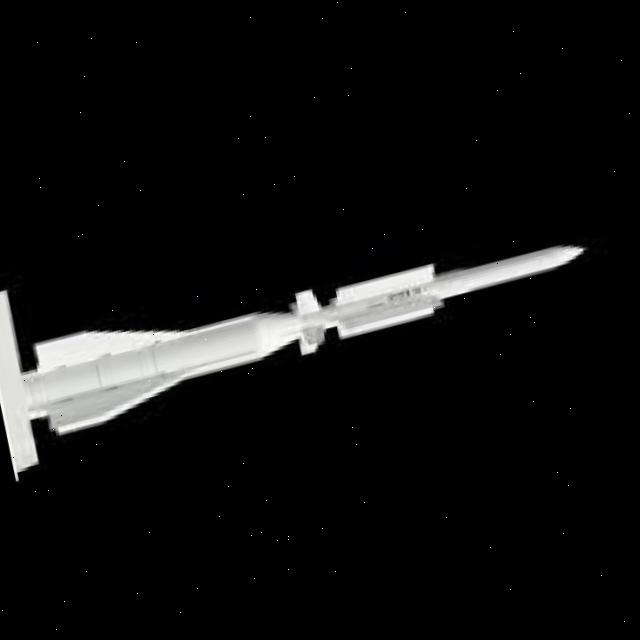missile: (17, 203, 602, 442)
